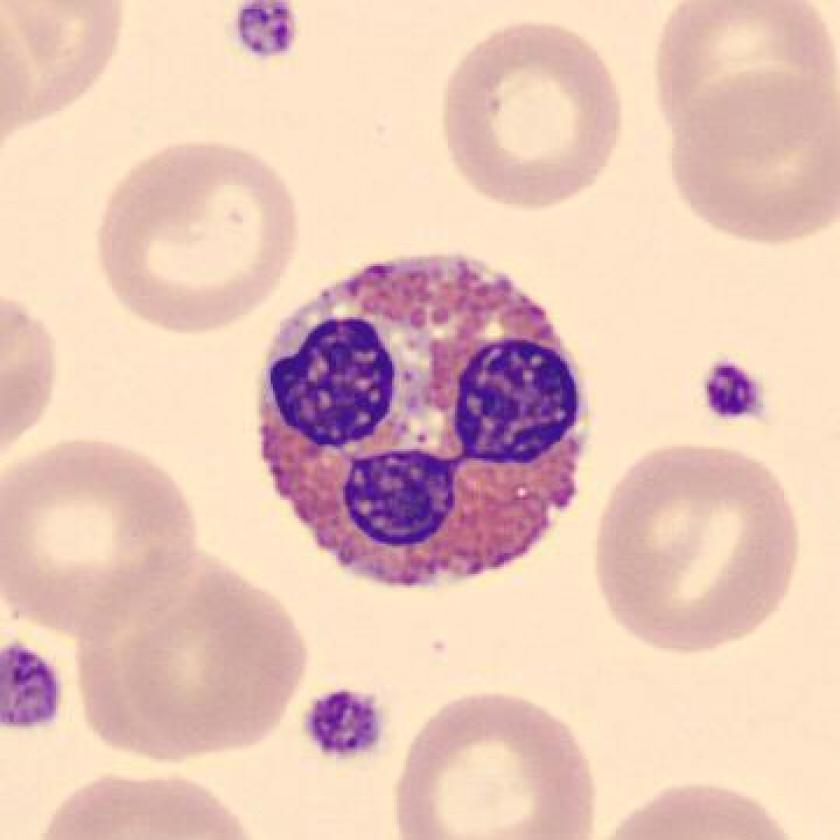eosinophil: (244, 242, 605, 612)
